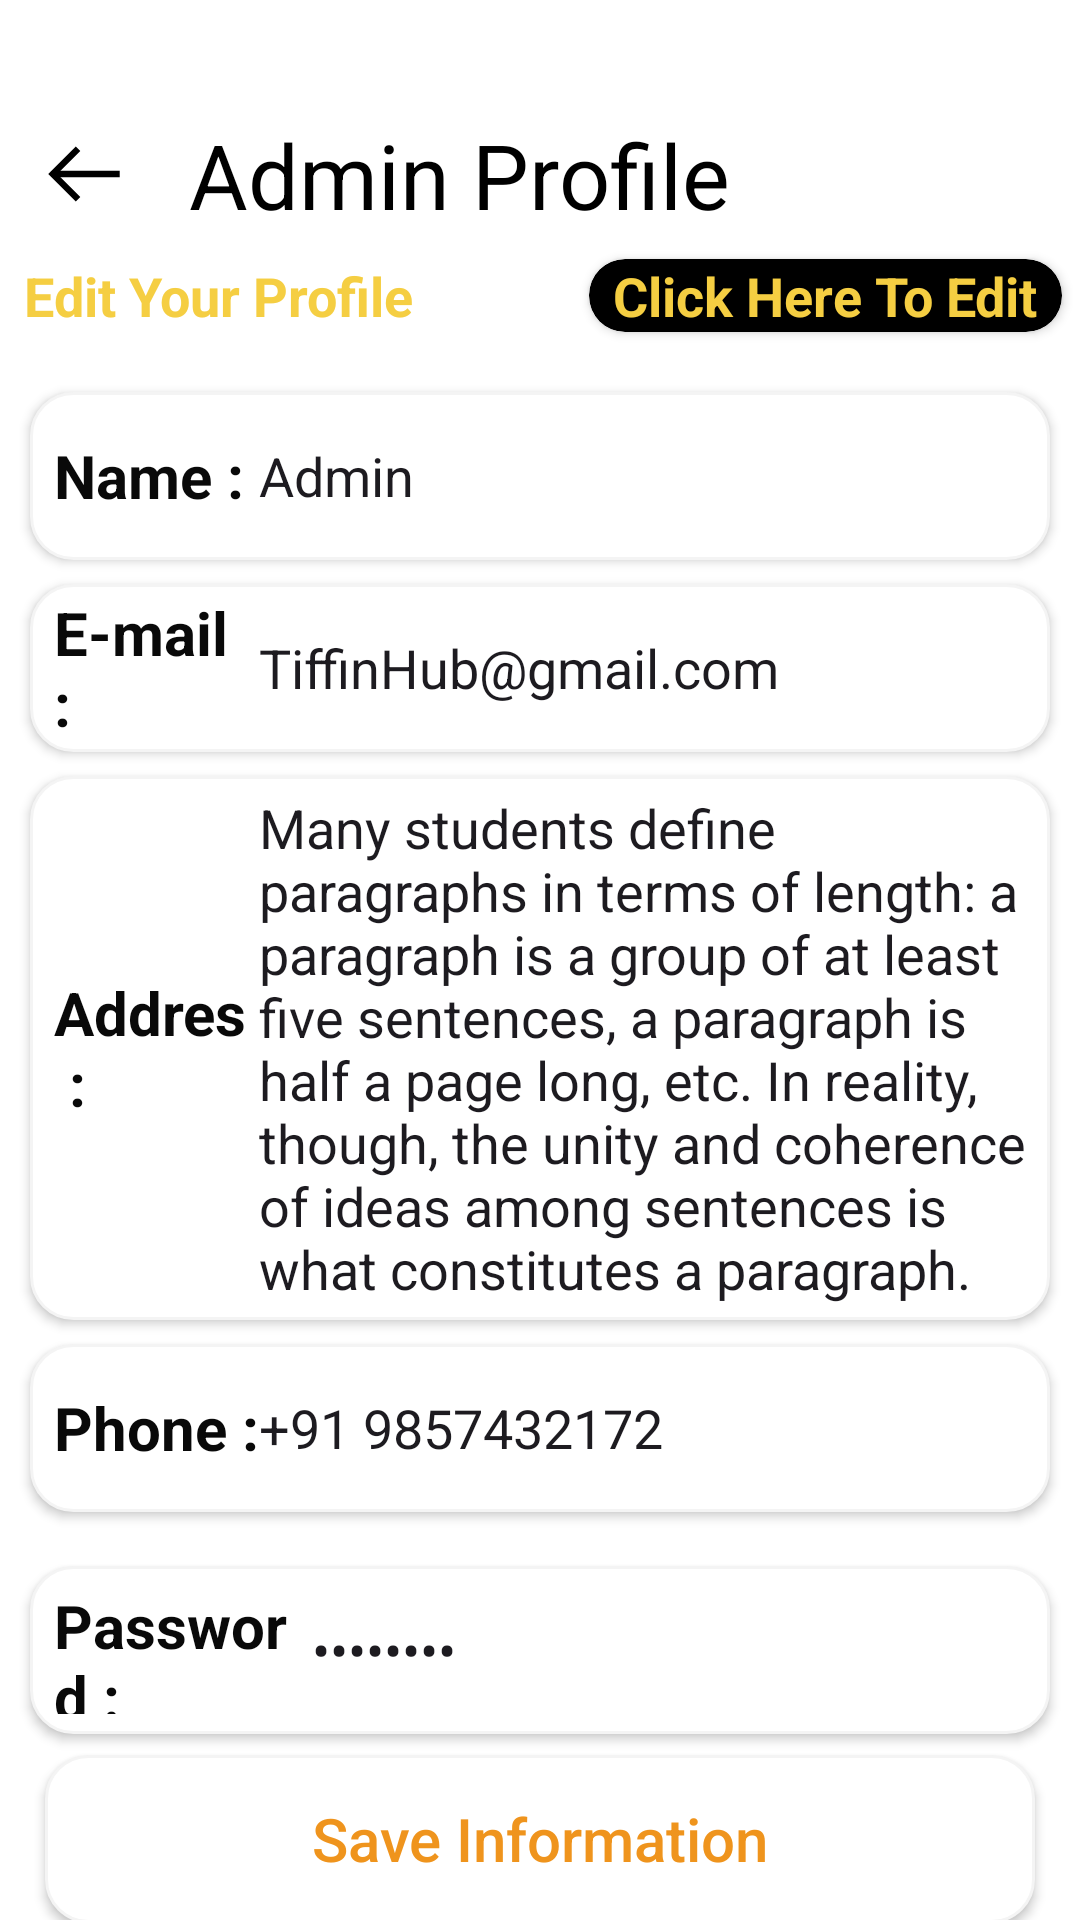

Icons on this 1080w x 1920h Android screen, each with the point to tap as (x,y):
left arrow: (84,174)
